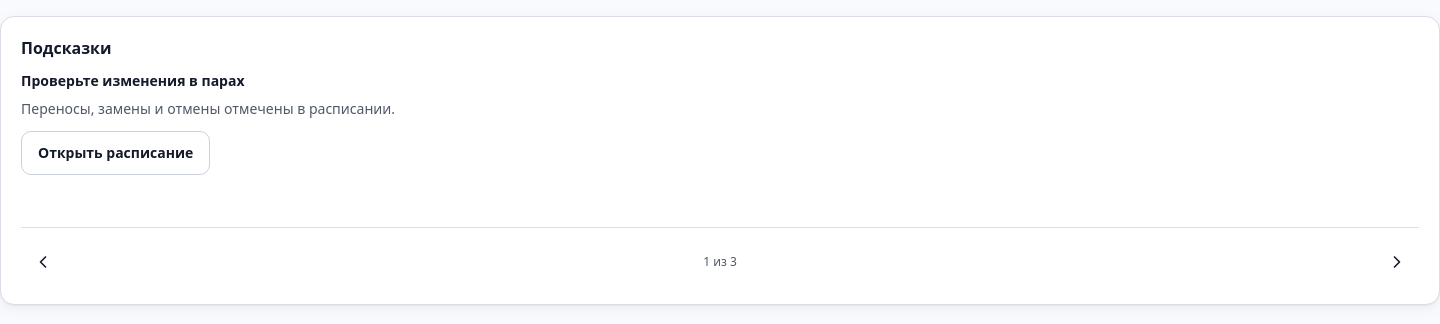
Test: подсказки студента › при уменьшенном движении обе стрелки листают без таймера
Click the button named "Следующая подсказка" at (1397,262), box [1375,240,1419,284]
Wait 8000 ms
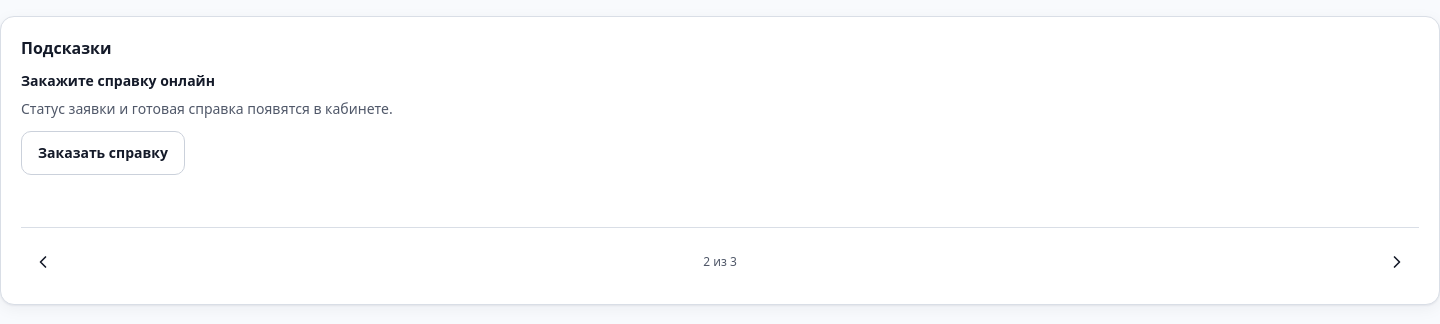
Now the heading "Проверьте изменения в парах" no longer shows "Проверьте изменения в парах"
Now the heading "Закажите справку онлайн" is shown, box [21,71,215,90]
Click the button named "Предыдущая подсказка" at (43,262), box [21,240,65,284]
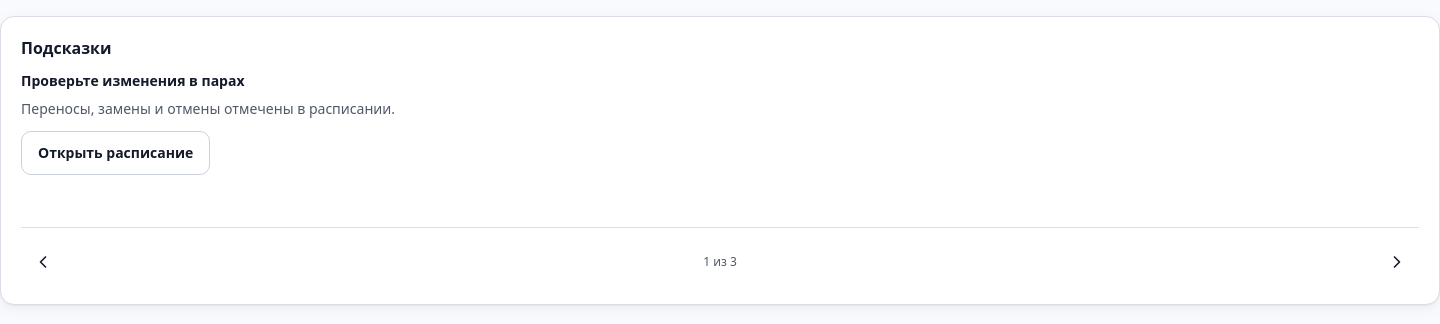
Now the heading "Проверьте изменения в парах" is shown, box [21,71,244,90]
